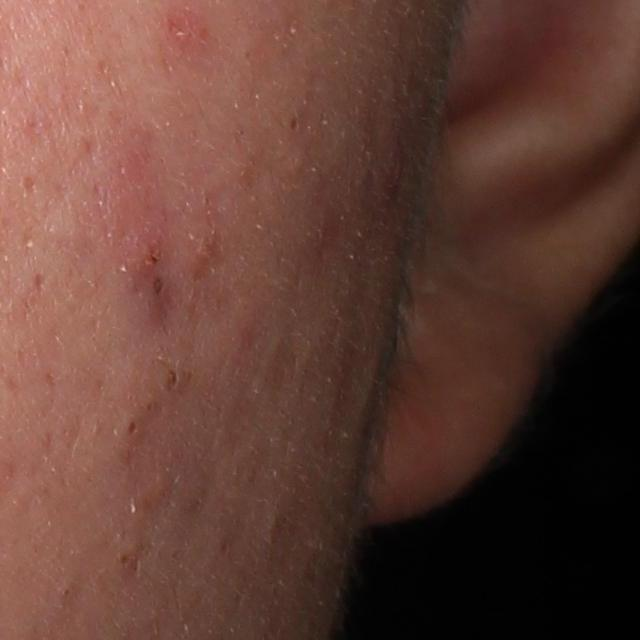comedo: (162, 361, 188, 394), (115, 415, 146, 441), (115, 551, 132, 575), (290, 114, 304, 138)
